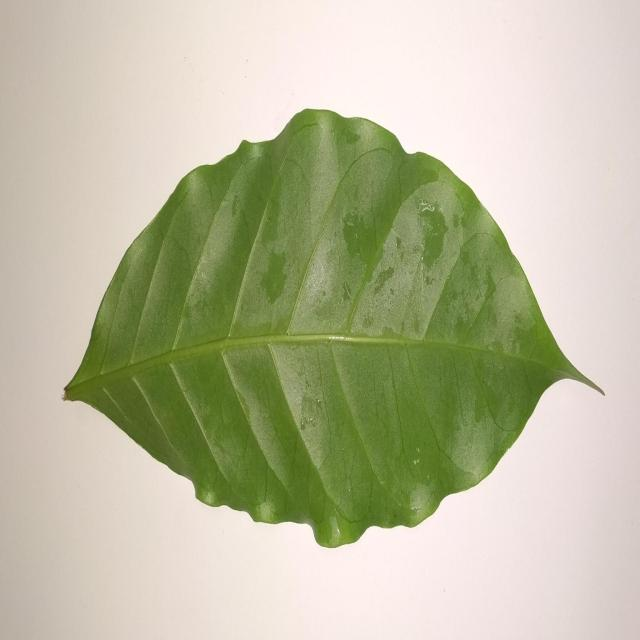Sanas: (61, 109, 601, 551)
